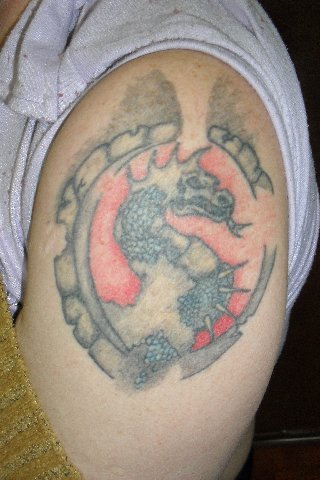tatu6_drakon: (34, 65, 301, 399)
